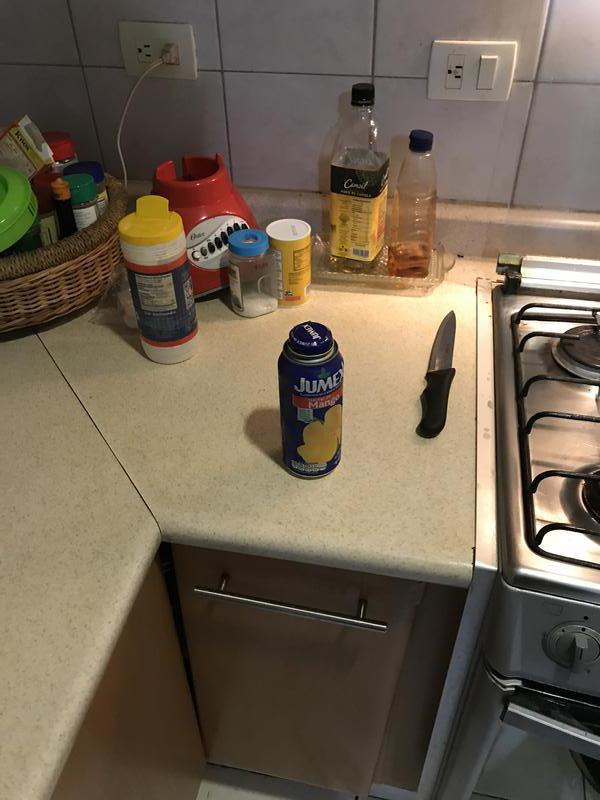jugo_jumex: (279, 327, 346, 480)
